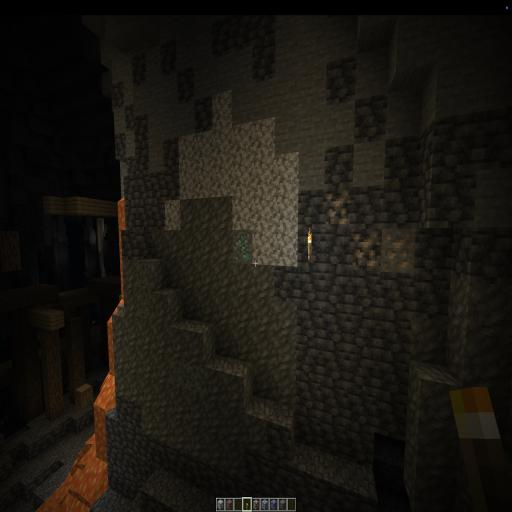diamond ore: (231, 232, 254, 268)
iron ore: (348, 220, 415, 274), (321, 184, 352, 227)
